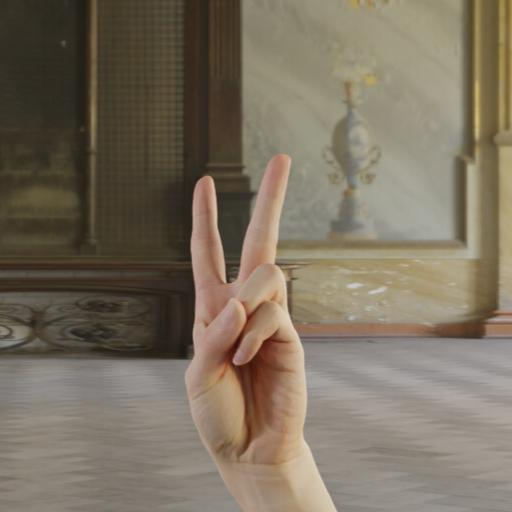V: (178, 148, 328, 483)
